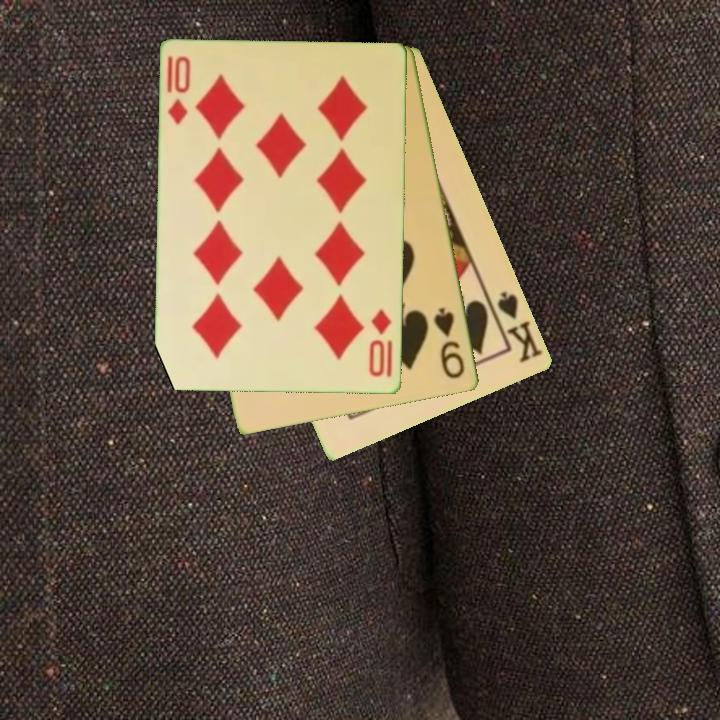10d: (164, 53, 194, 128), (366, 306, 395, 380)
9s: (430, 304, 468, 382)
Ks: (494, 288, 546, 366)
